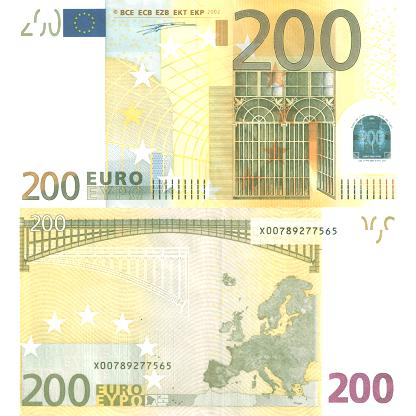euro_banknote: (18, 1, 412, 208), (21, 210, 411, 416)
